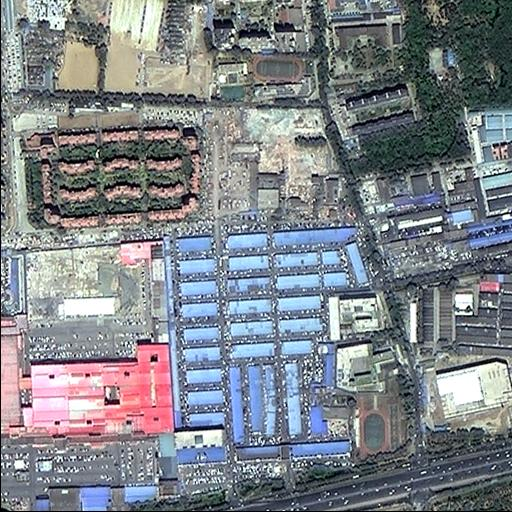school: (335, 338, 415, 461), (251, 51, 315, 102)
